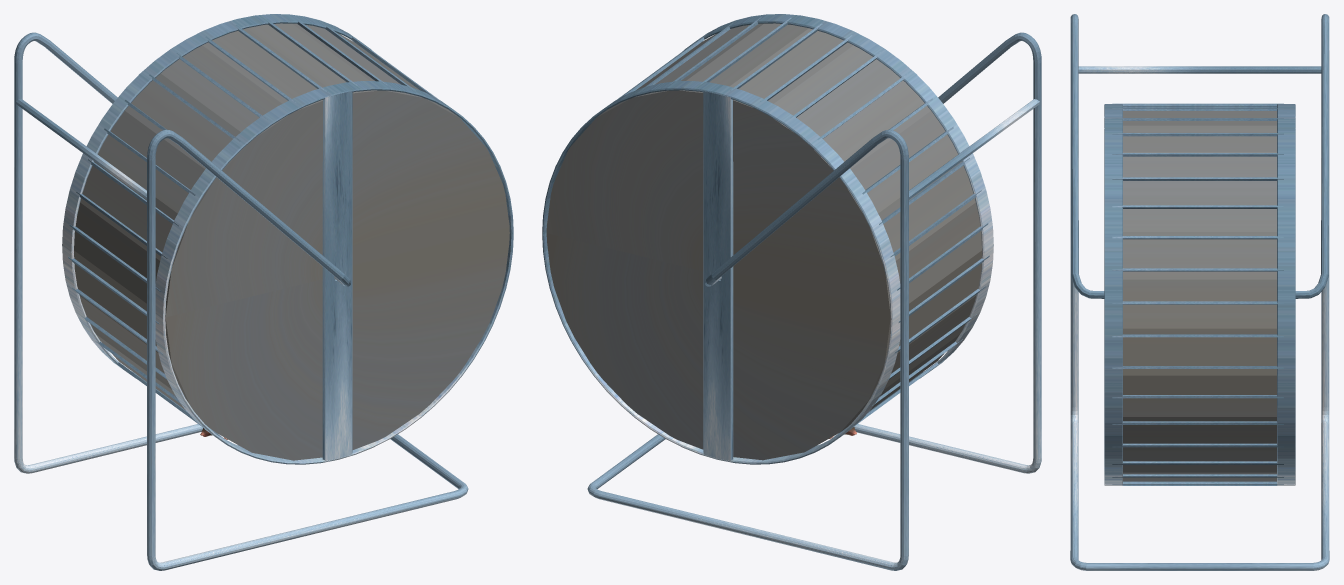
The model's file is P_Hamster_Wheel_01.obj.
The picture shows the model from 3 angles, left to right: view 1: azimuth 30°, elevation 25°; view 2: azimuth 150°, elevation 25°; view 3: azimuth 270°, elevation 25°; orthographic projection. The views are drawn at different scales.
Bounding box in the file's own units: 0.9775 × 1.07 × 0.6074.
5 materials, 5 textured.
